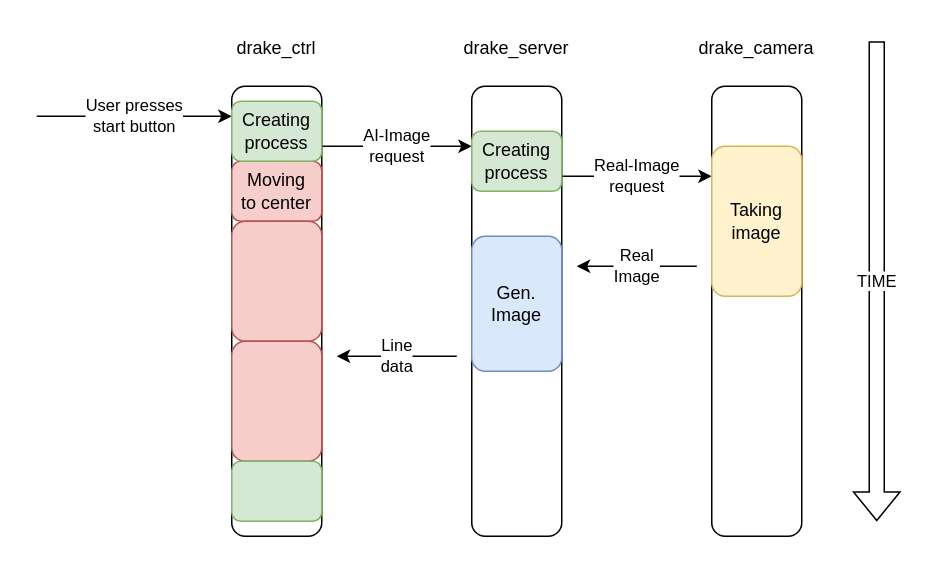
Image size: 927x563. Some labels were removed from this diagram. Here are the shapes that lost their labels. From the top down, the centre of each, then its label:
At (x=276, y=280): "Drawing header".
At (x=276, y=400): "Drawing image".
At (x=276, y=490): "Finishing".
